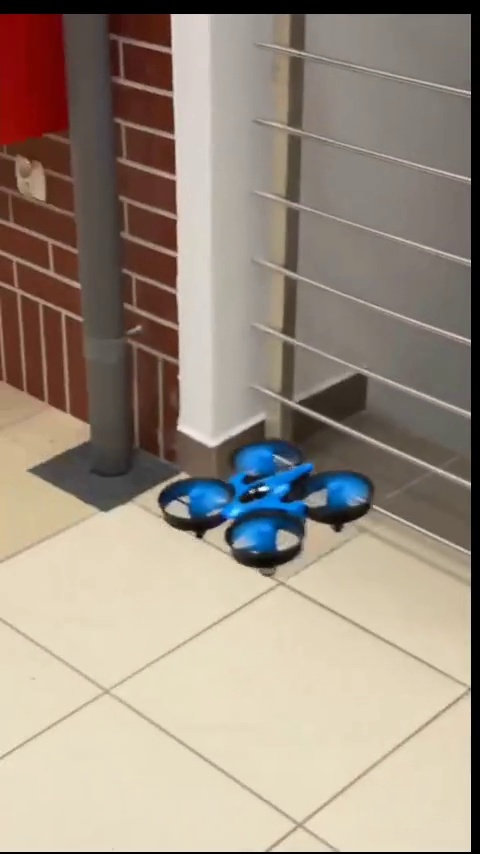drone: (165, 441, 371, 576)
